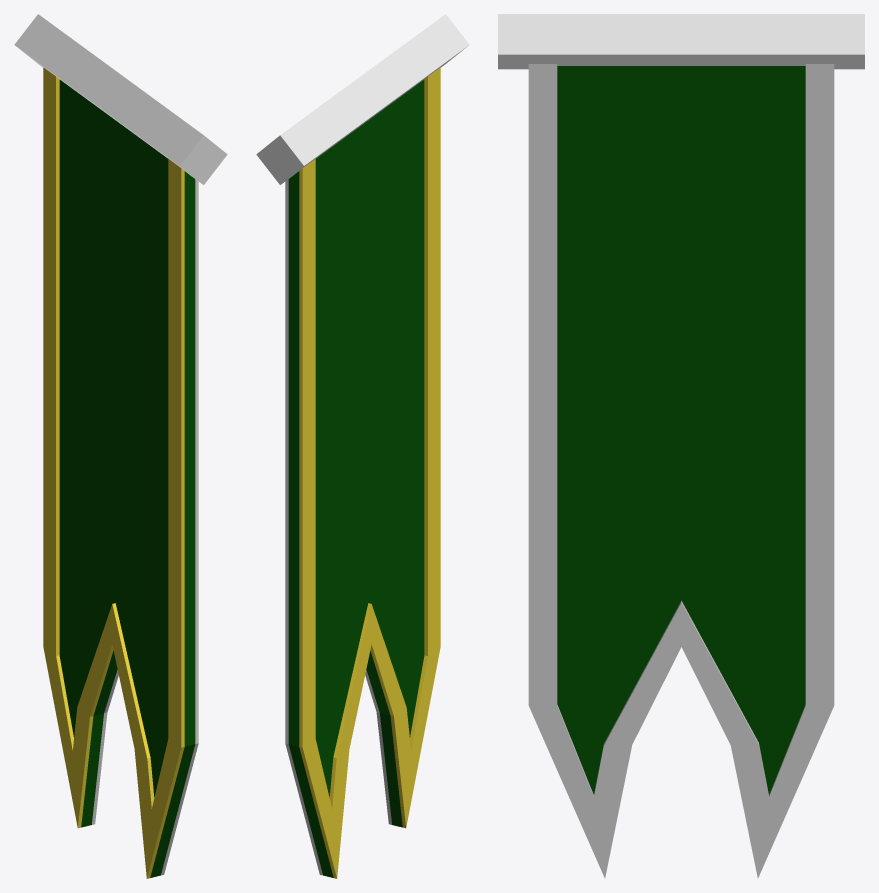
File: Banner2 1.fbx
3 renders of one model, left to right at view 1: azimuth 30°, elevation 25°; view 2: azimuth 150°, elevation 25°; view 3: azimuth 270°, elevation 25°, orthographic. The views are drawn at different scales.
Parts seen in each view (by area): view 1: Cube.001, Cube.009, Cylinder.001, Cube.019; view 2: Cube.001, Cube.009, Cylinder.001, Cube.019; view 3: Cube.001, Cube.019, Cylinder.001.
Part boxes in pixels (x1,y1,x2,y2): Cube.001: [59, 80, 195, 877]; Cube.009: [43, 67, 184, 878]; Cylinder.001: [14, 14, 227, 184]; Cube.019: [92, 179, 198, 875]; Cube.001: [288, 80, 424, 877]; Cube.009: [299, 67, 440, 878]; Cylinder.001: [256, 14, 469, 184]; Cube.019: [285, 179, 391, 875]; Cube.001: [557, 66, 805, 794]; Cube.019: [528, 64, 834, 878]; Cylinder.001: [498, 14, 864, 69].
Size of the model in its own units: 20 by 311 by 120.
